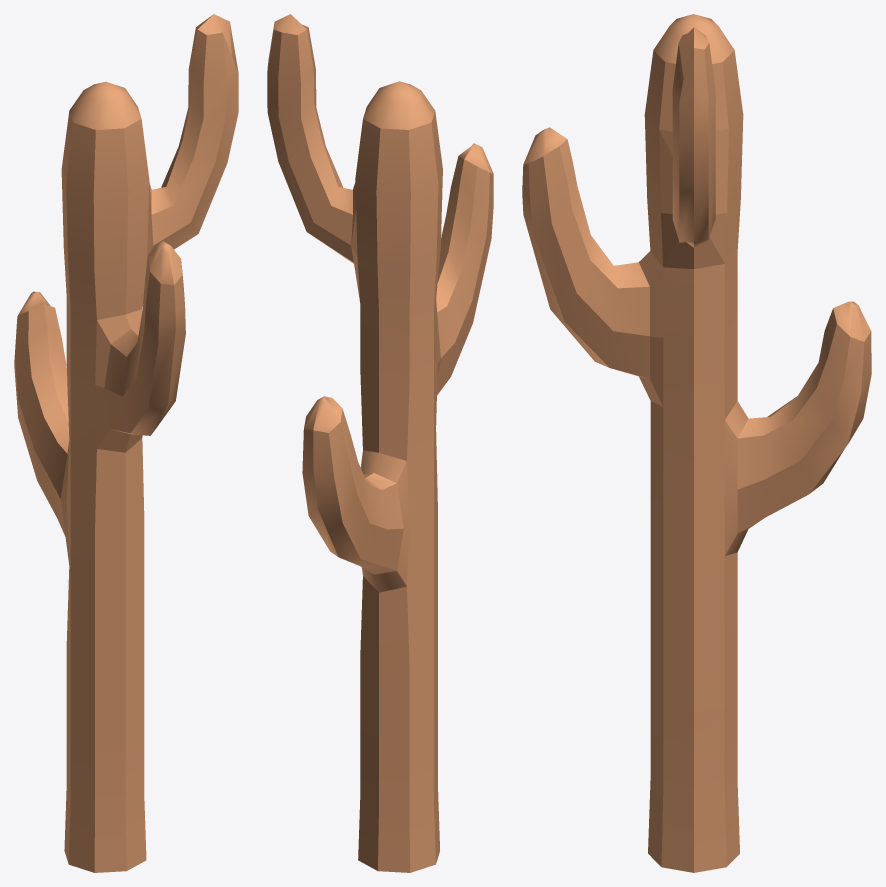
The model's file is Cactu3.fbx.
3 renders of one model, left to right at view 1: azimuth 30°, elevation 25°; view 2: azimuth 150°, elevation 25°; view 3: azimuth 270°, elevation 25°, orthographic. The views are drawn at different scales.
Parts seen in each view (by area): view 1: pCylinder1; view 2: pCylinder1; view 3: pCylinder1.
Boxes of the visible parts, bbox=[...] form: pCylinder1: bbox=[14, 14, 238, 872]; pCylinder1: bbox=[267, 14, 493, 872]; pCylinder1: bbox=[522, 14, 871, 872].
Bounding box in the file's own units: 0.772 × 3.53 × 1.27.
